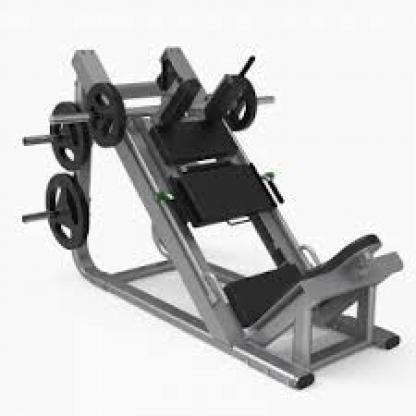leg press: (16, 33, 416, 404)
